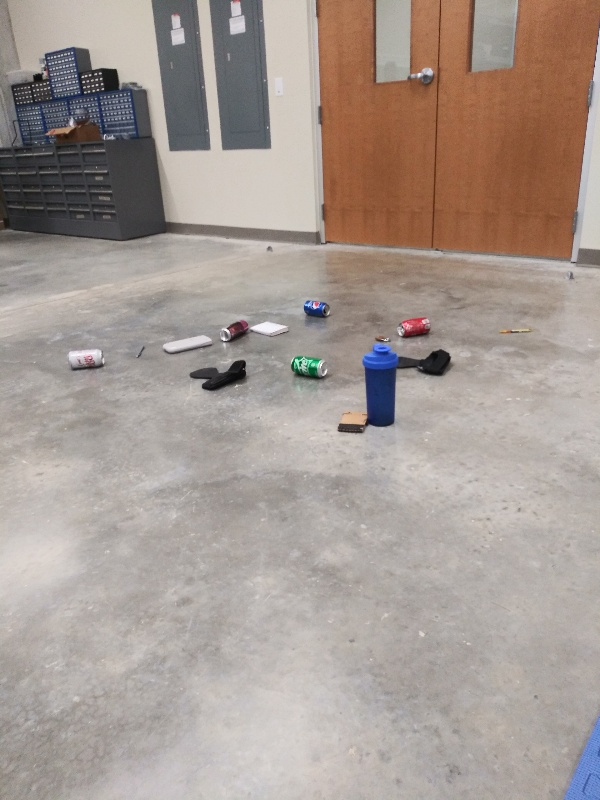can: (64, 344, 109, 373), (287, 352, 330, 379), (218, 316, 254, 343), (393, 316, 435, 339), (301, 295, 333, 318)
